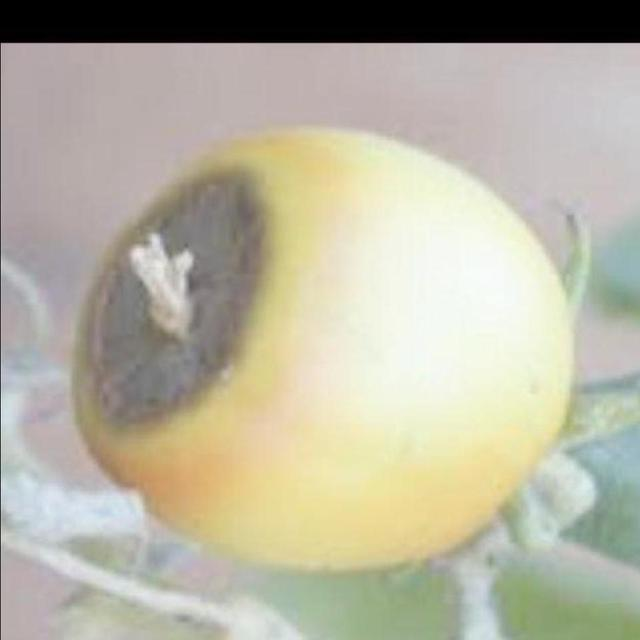Blossom End Rot Fruit: (56, 108, 189, 294)
